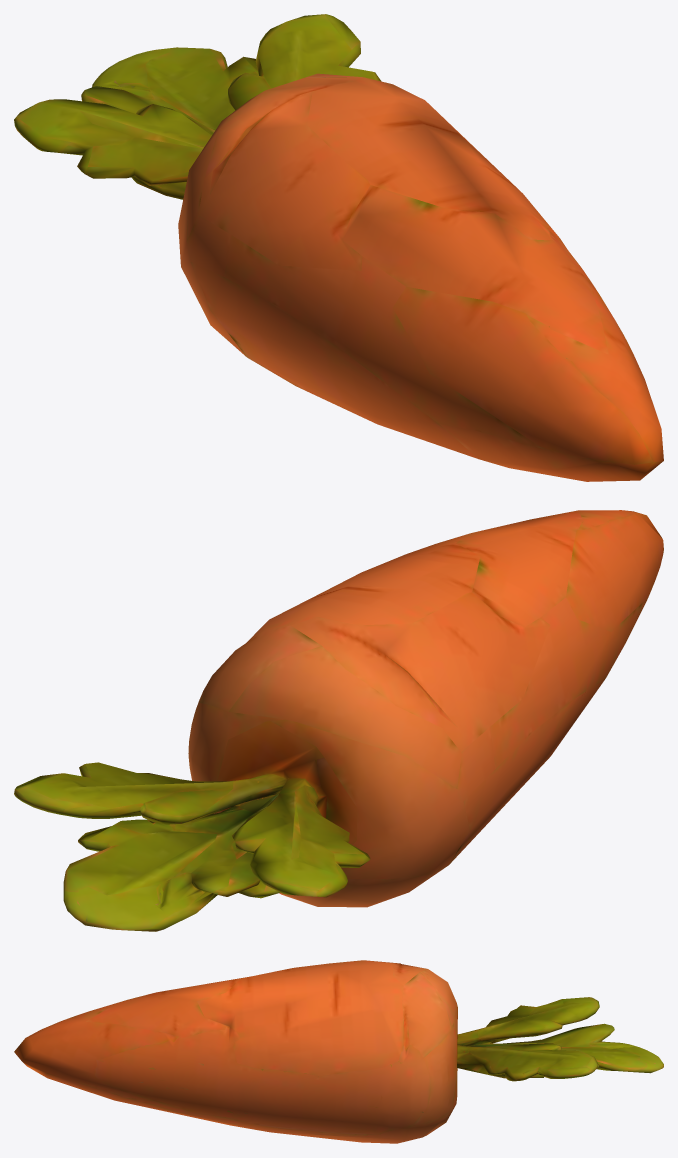
3 views of the same model, one above another, from view 1: azimuth 30°, elevation 25°; view 2: azimuth 150°, elevation 25°; view 3: azimuth 270°, elevation 25° (orthographic). The views are drawn at different scales.
Visible parts, largest first — view 1: material; view 2: material; view 3: material.
Part boxes in pixels (x1=…): material: x1=14, y1=14, x2=663, y2=481; material: x1=14, y1=510, x2=663, y2=931; material: x1=14, y1=960, x2=663, y2=1143.
Size of the model in its own units: 0.3396 by 0.2812 by 1.
1 material, 1 textured.
